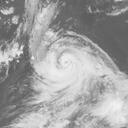cyclone: (32, 28, 102, 94)
